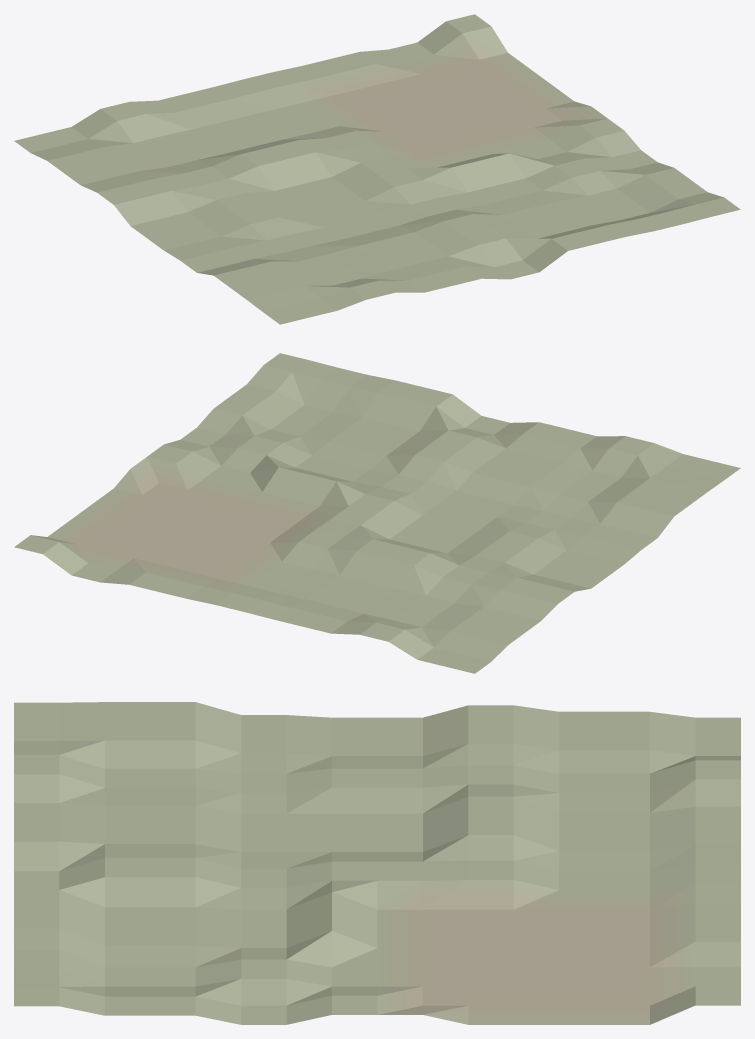
3 views of the same model, one above another, from view 1: azimuth 30°, elevation 25°; view 2: azimuth 150°, elevation 25°; view 3: azimuth 270°, elevation 25° (orthographic). The views are drawn at different scales.
Bounding box in the file's own units: 32 × 0.9857 × 32.
